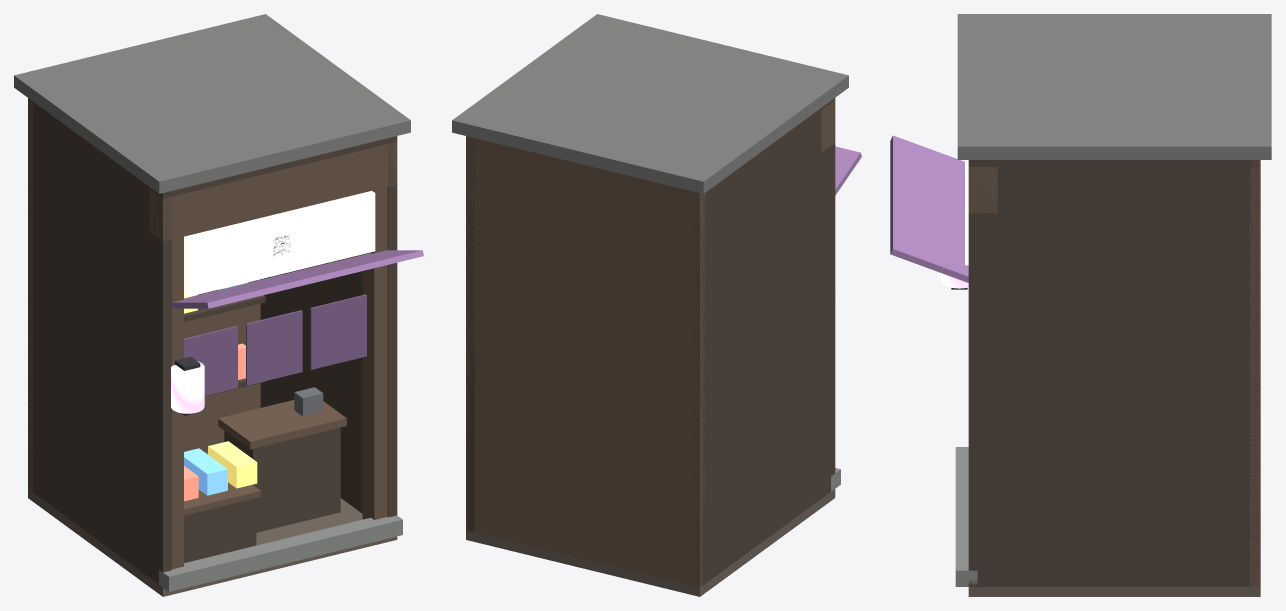
Rendered from shop_murasaki.glb.
3 renders of one model, left to right at view 1: azimuth 30°, elevation 25°; view 2: azimuth 150°, elevation 25°; view 3: azimuth 270°, elevation 25°, orthographic. The views are drawn at different scales.
Parts seen in each view (by area): view 1: shop_murasaki; view 2: shop_murasaki; view 3: shop_murasaki.
Part boxes in pixels (box(x1,y1,x2,y2)): shop_murasaki: box(14, 14, 423, 596); shop_murasaki: box(452, 14, 861, 596); shop_murasaki: box(890, 14, 1271, 596).
Bounding box in the file's own units: 8.6 × 13.75 × 10.44.
